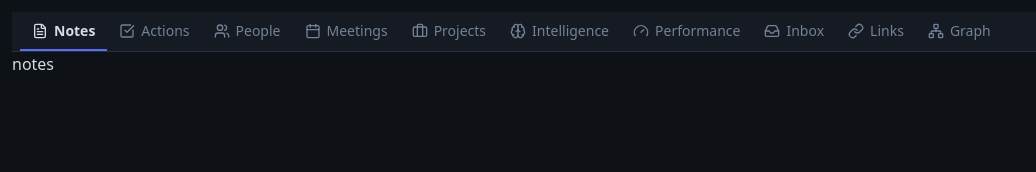
Test: TabBar › switches to actions view when Action Items tab is clicked
Check: the text with test id "view" reads "notes", box [12,53,54,75]
Click the button with test id "tab-actions".
click(154, 32)  # box [107,12,202,51]
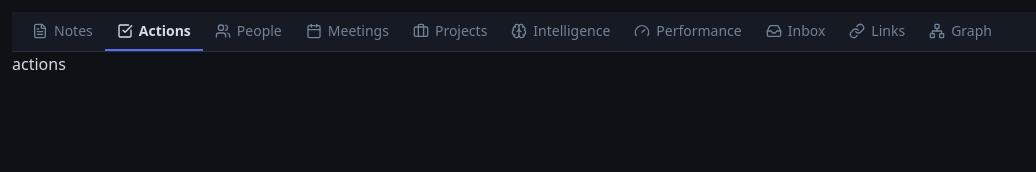
Check: the text with test id "view" reads "actions", box [12,53,66,75]
